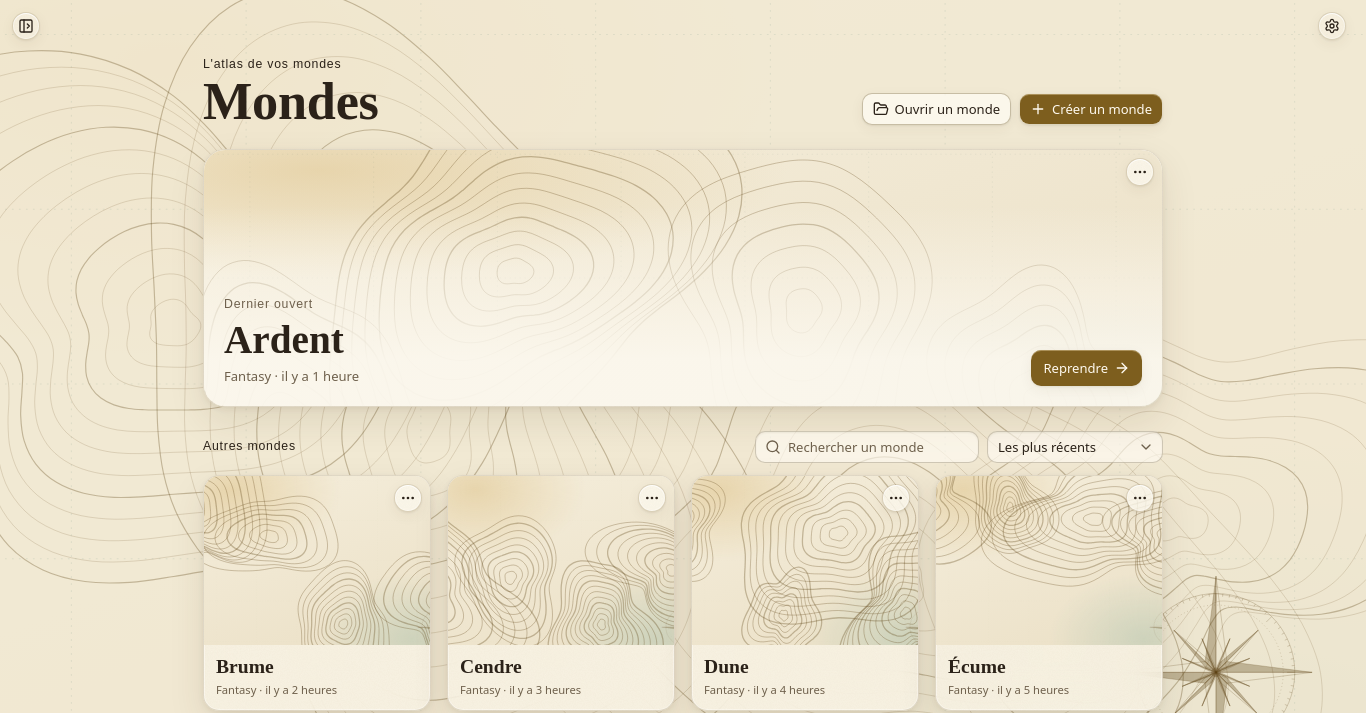
Test: searches a long list, which then shows every world
Step 1. Type "ume" into the search field labelled "Rechercher un monde" → (867, 447), box x1=755 y1=431 x2=979 y2=463
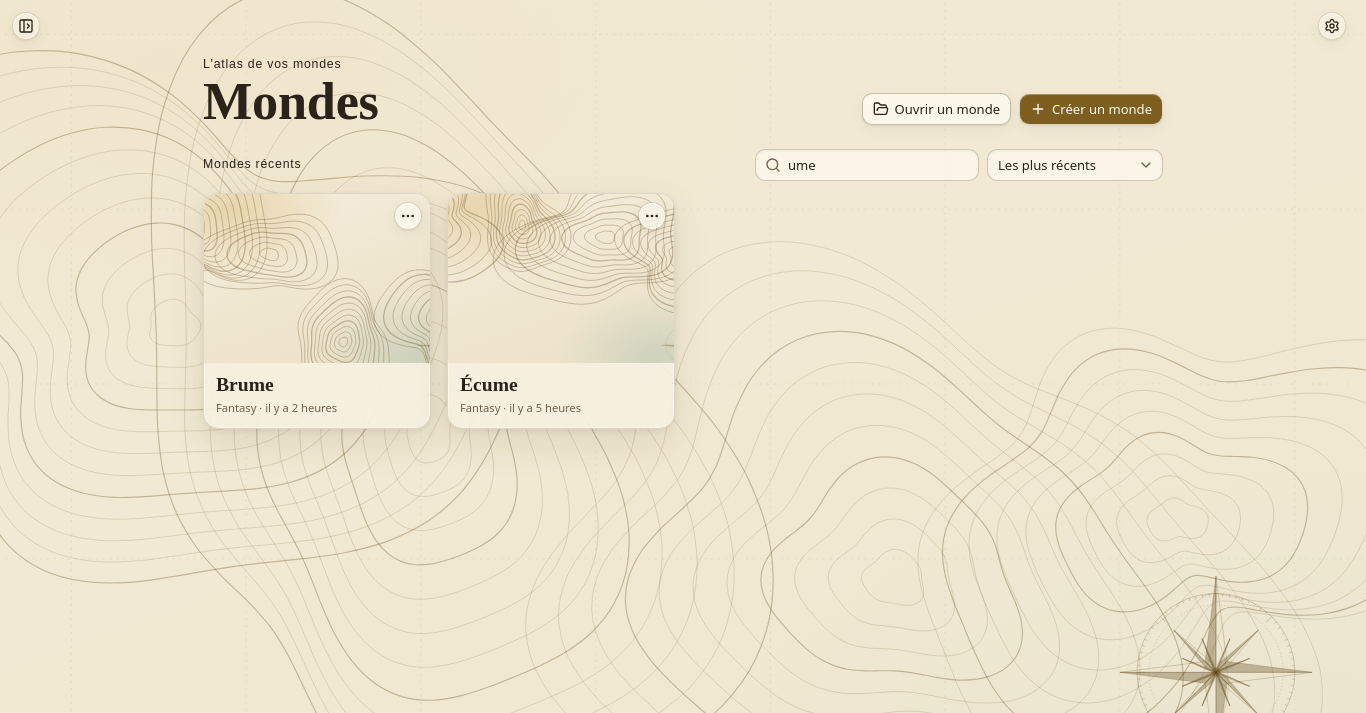
Step 2. Replace the text in the search field named "Rechercher un monde" with "zzz" → (867, 165), box x1=755 y1=149 x2=979 y2=181
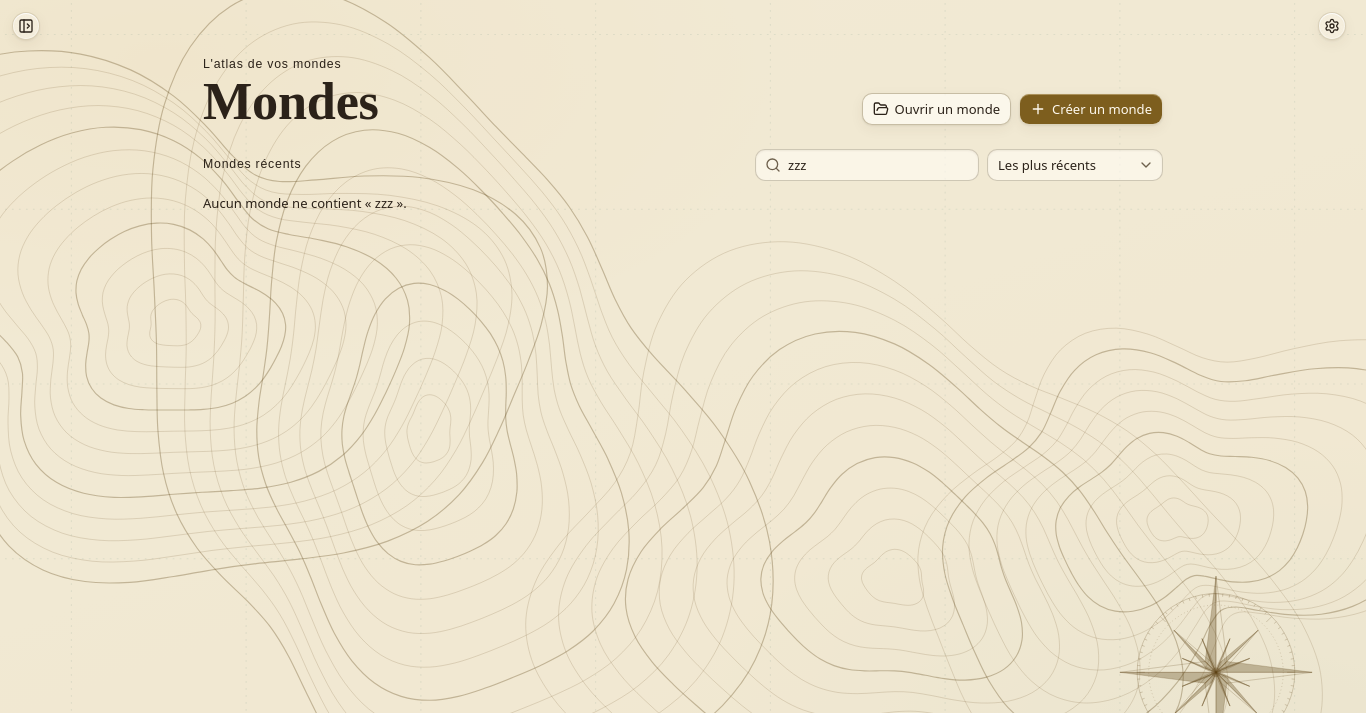
Result: the text "Aucun monde ne contient « zzz »." is shown at x1=203 y1=194 x2=407 y2=212
